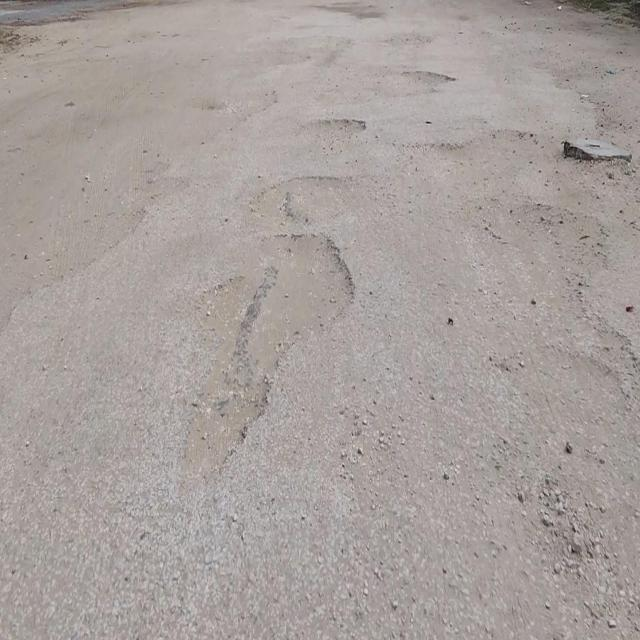Potholes: (180, 233, 357, 496), (298, 115, 367, 142)
